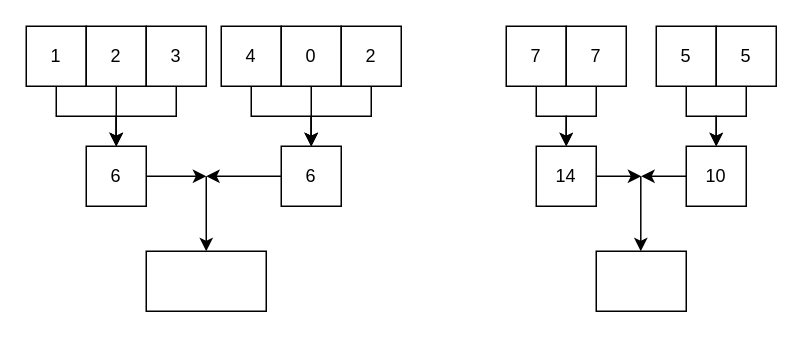
This 803x338 diagram has some shape labels left out. The shapes that lost their labels are listed below. From the top down, each one's centre as x and y in pixels, then its label:
At point 205,280: "LUCKY".
At point 640,280: "READY".
